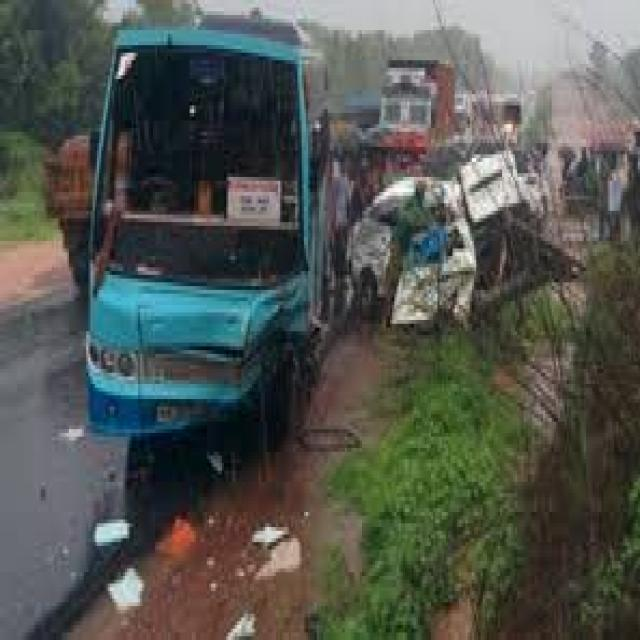accident: (80, 11, 332, 465), (349, 144, 584, 363)
